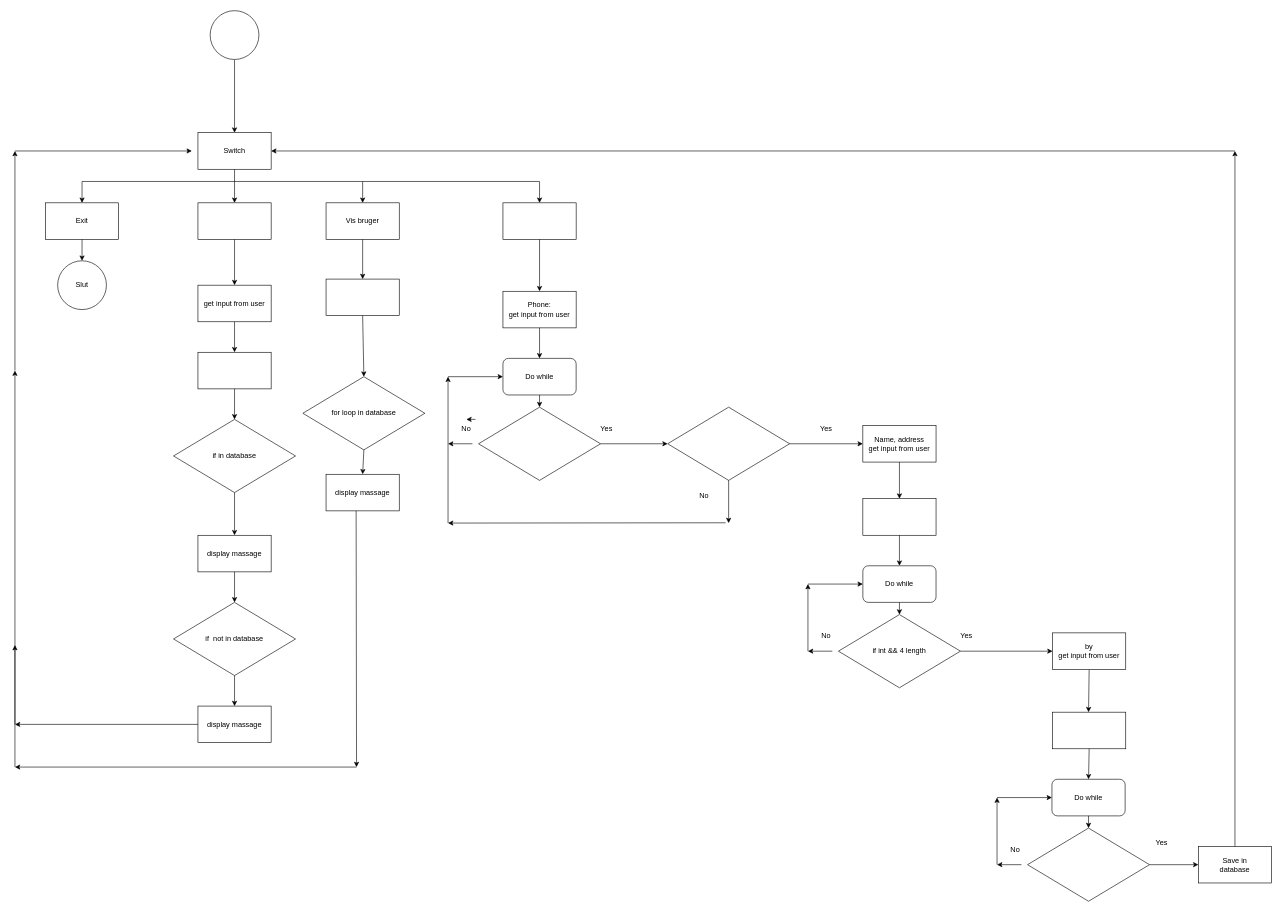
This 1282x912 diagram has some shape labels left out. The shapes that lost their labels are listed below. From the top down, each one's centre as x and y in pixels, then its label:
At (234,34): "Start".
At (234,220): "Find bruger".
At (539,220): "Oprette bruger".
At (362,297): "get from database".
At (234,370): "foreach from database".
At (539,443): "if int && 8 length".
At (728,443): "if contant in database".
At (899,516): "post nr get input from user".
At (1089,730): "email get input from user".
At (1088,864): "if contant @".
